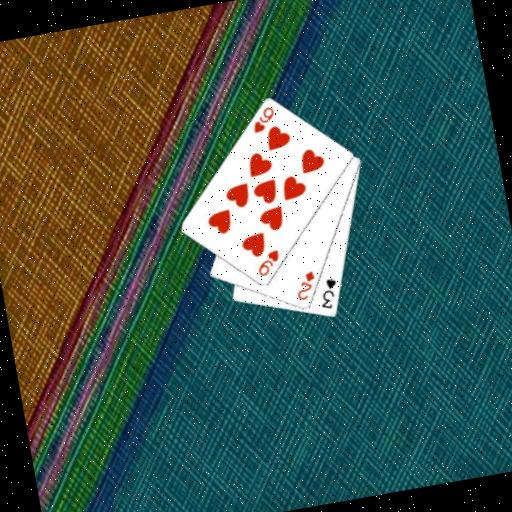2D: (290, 267, 319, 303)
3S: (313, 274, 342, 311)
9H: (252, 246, 283, 278), (247, 103, 278, 135)
